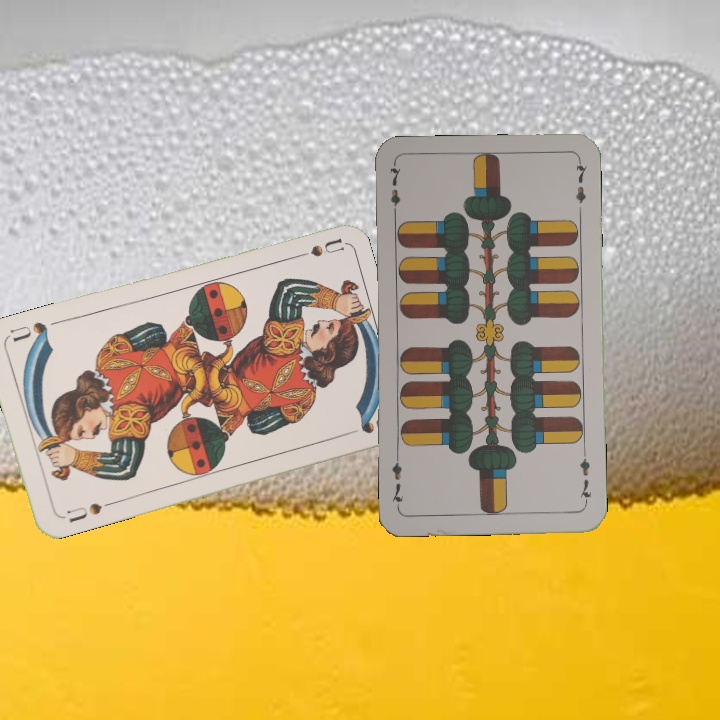E7: (575, 448, 594, 507), (385, 161, 403, 220)
SU: (285, 234, 345, 263), (62, 497, 115, 525)
